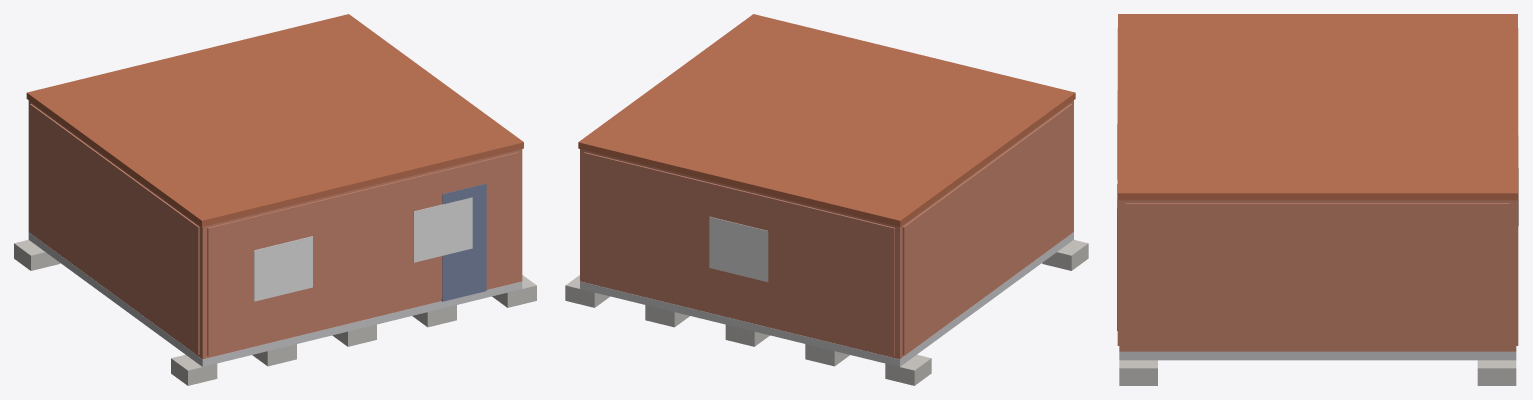
File: Studio-20-Base-BrickRed-LOD3.glb
The picture shows the model from 3 angles, left to right: view 1: azimuth 30°, elevation 25°; view 2: azimuth 150°, elevation 25°; view 3: azimuth 270°, elevation 25°; orthographic projection. The views are drawn at different scales.
Visible parts, largest first — view 1: RoofMain, ExteriorPanelsStandard, WindowsStandard, FoundationBlocks, ExteriorShell, BaseFrame, EntryDoor; view 2: ExteriorPanelsStandard, RoofMain, FoundationBlocks, BaseFrame, ExteriorShell, WindowsStandard; view 3: RoofMain, ExteriorPanelsStandard, ExteriorShell, BaseFrame, FoundationBlocks.
Boxes of the visible parts, x1,y1,x2,y2 form: RoofMain: (26, 14, 523, 226); ExteriorPanelsStandard: (30, 104, 518, 355); WindowsStandard: (254, 197, 472, 301); FoundationBlocks: (14, 240, 536, 385); ExteriorShell: (28, 100, 522, 359); BaseFrame: (28, 232, 522, 366); EntryDoor: (441, 183, 486, 301); ExteriorPanelsStandard: (584, 104, 1072, 355); RoofMain: (578, 14, 1075, 226); FoundationBlocks: (565, 240, 1088, 385); BaseFrame: (580, 232, 1073, 366); ExteriorShell: (580, 100, 1073, 359); WindowsStandard: (709, 216, 768, 281); RoofMain: (1118, 14, 1517, 200); ExteriorPanelsStandard: (1117, 28, 1518, 349); ExteriorShell: (1119, 200, 1516, 351); BaseFrame: (1119, 351, 1516, 360); FoundationBlocks: (1119, 360, 1516, 385).
Bounding box in the file's own units: 7.14 × 3.17 × 6.24.
